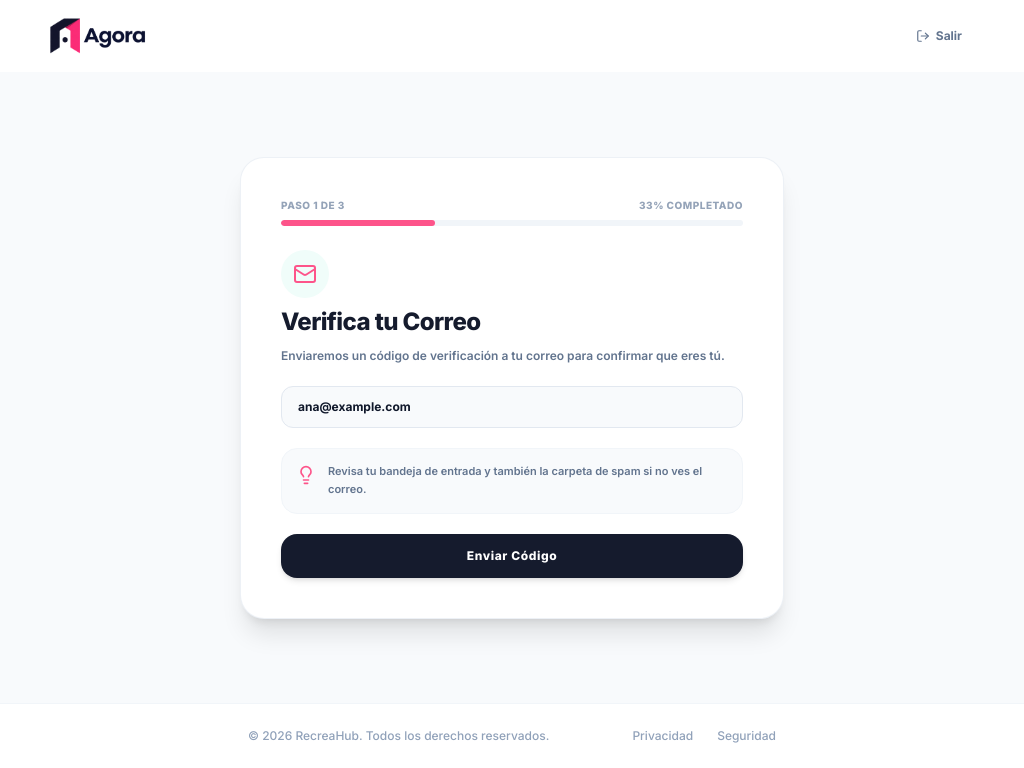
Test: verificación del correo › muestra el error del backend y limpia el código si es incorrecto
The image size is (1024, 768).
Click the button "Enviar Código": {"x": 512, "y": 556} [281,534,743,578]
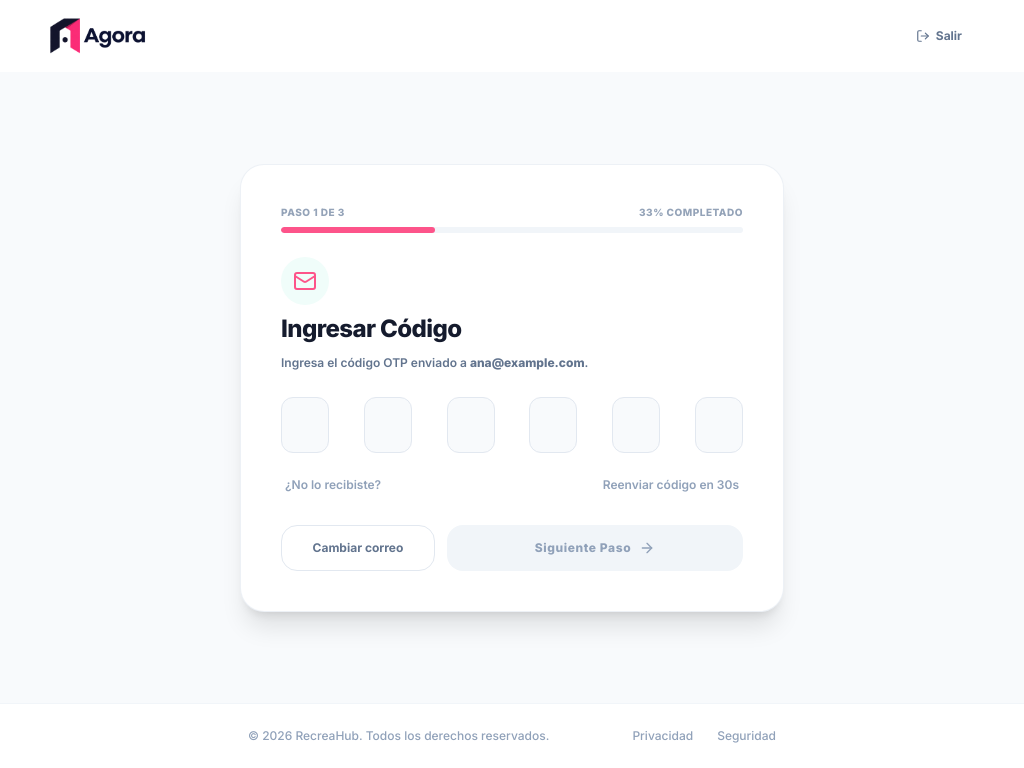
Now the heading "Ingresar Código" is shown, box [281,314,462,343]
In the 1st field: {"x": 305, "y": 425} [281,397,329,453], type "0"
In the 2nd field: {"x": 388, "y": 425} [364,397,412,453], type "0"
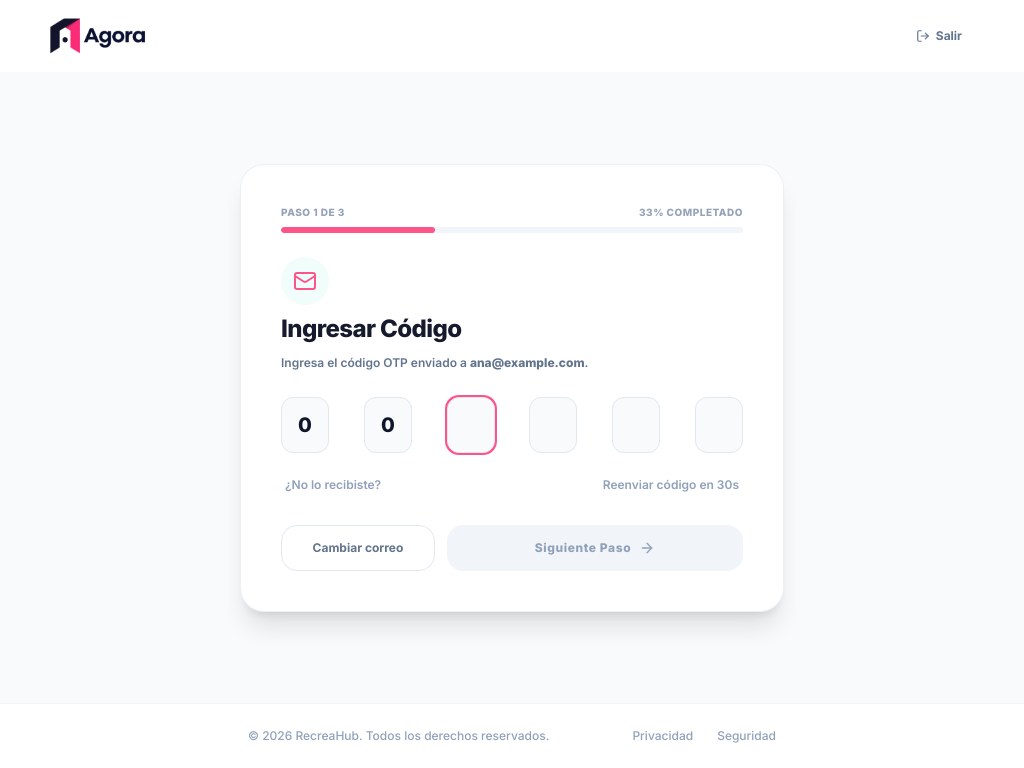
In the 3rd field: {"x": 471, "y": 425} [447,397,495,453], type "0"
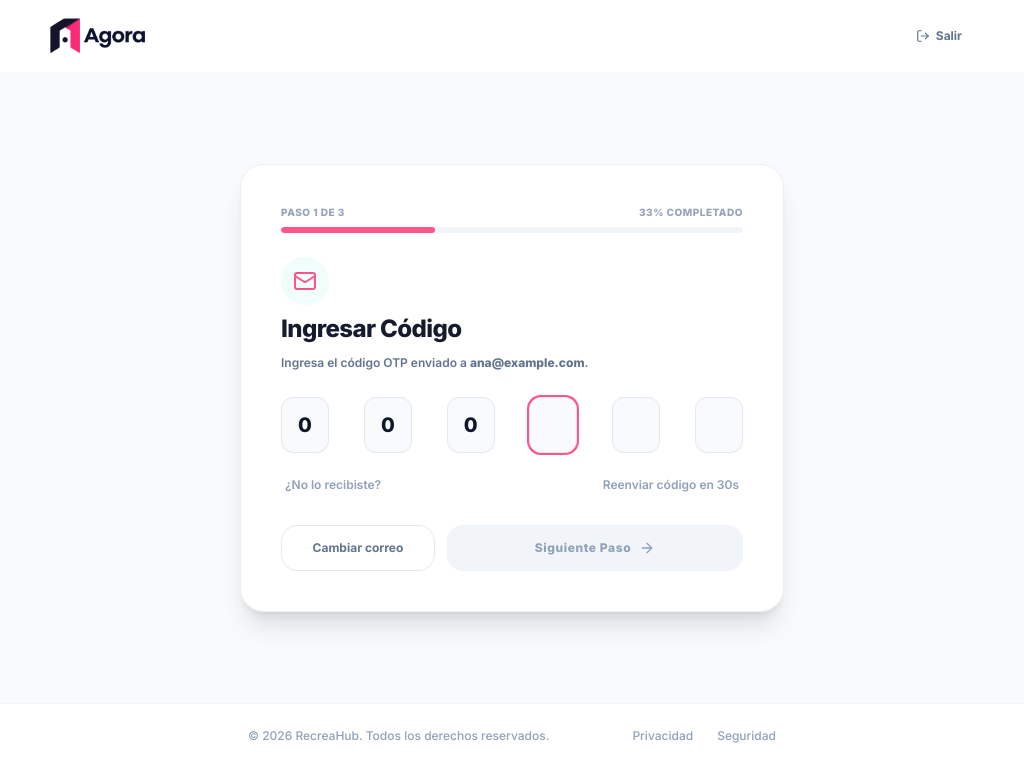
In the 4th field: {"x": 553, "y": 425} [529,397,577,453], type "0"
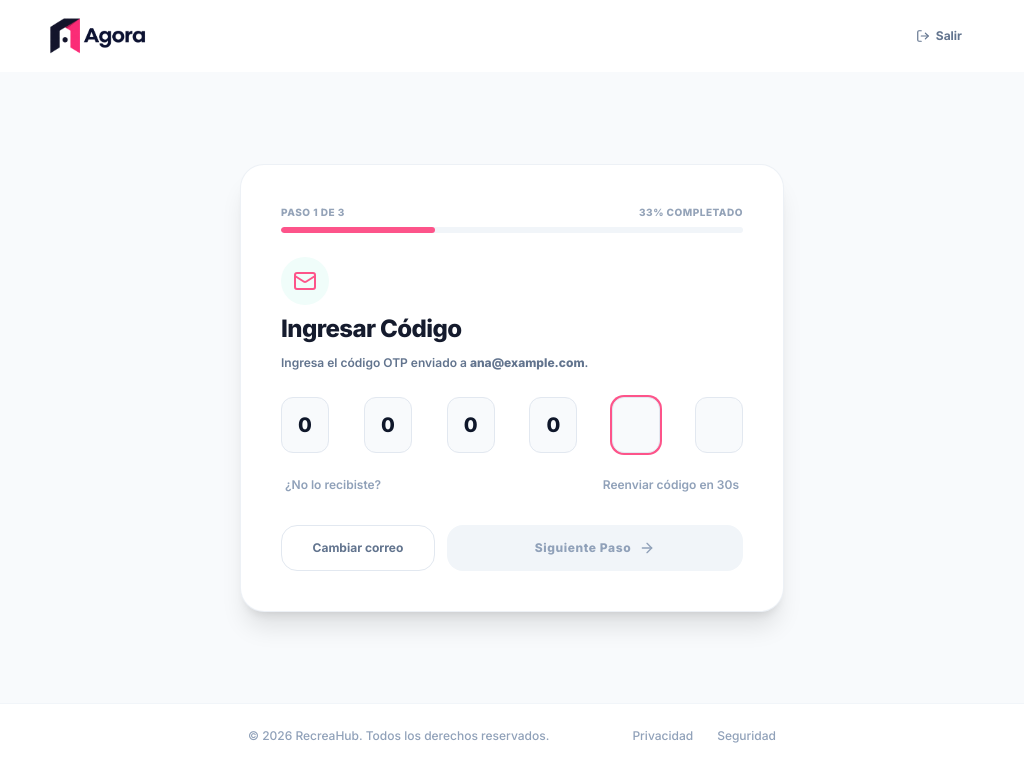
In the 5th field: {"x": 636, "y": 425} [612,397,660,453], type "0"
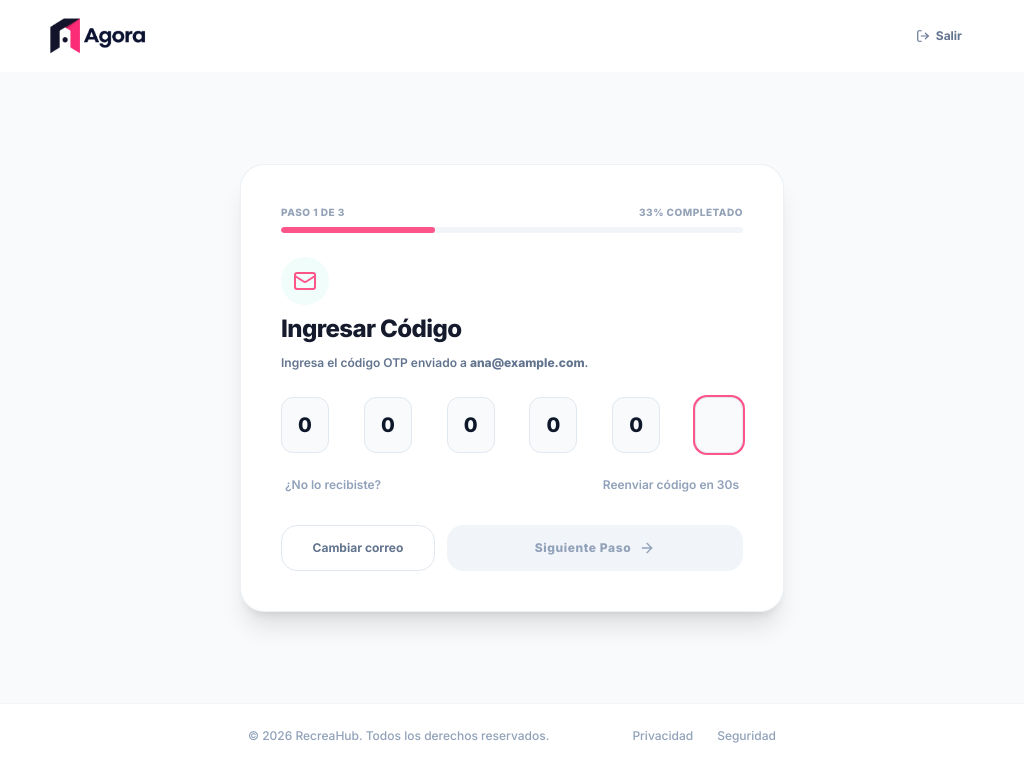
In the 6th field: {"x": 719, "y": 425} [695,397,743,453], type "0"
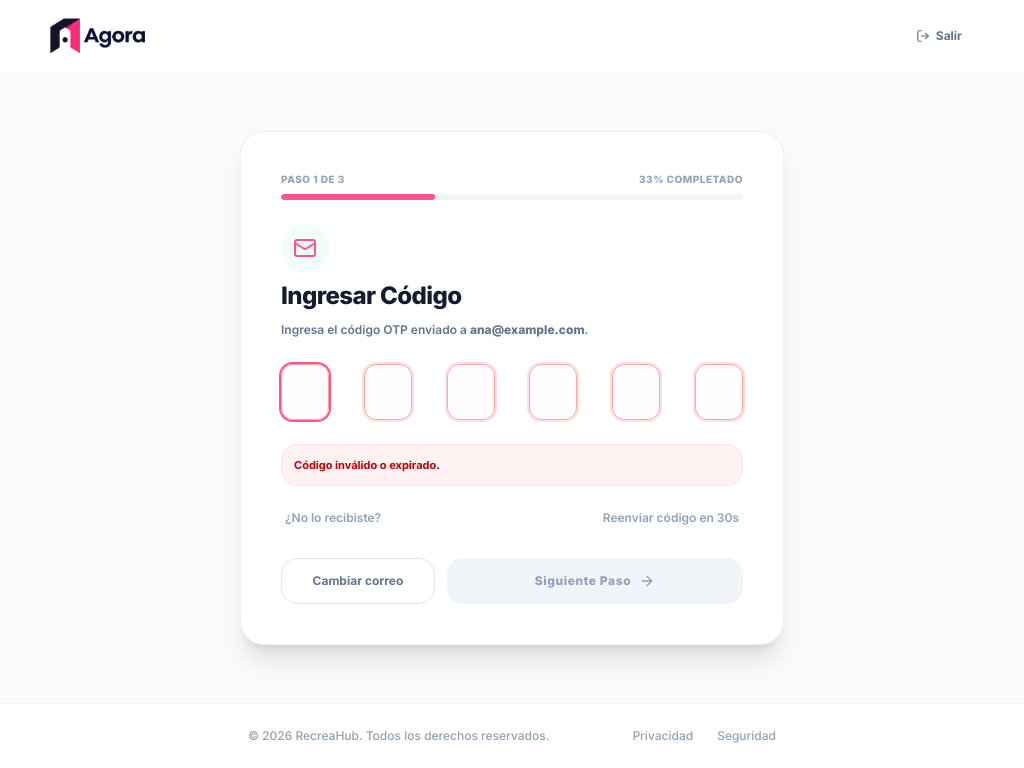
Now the text "Código inválido o expirado." is shown, box [281,444,743,486]
Now the 1st field is empty, box [281,364,329,420]
